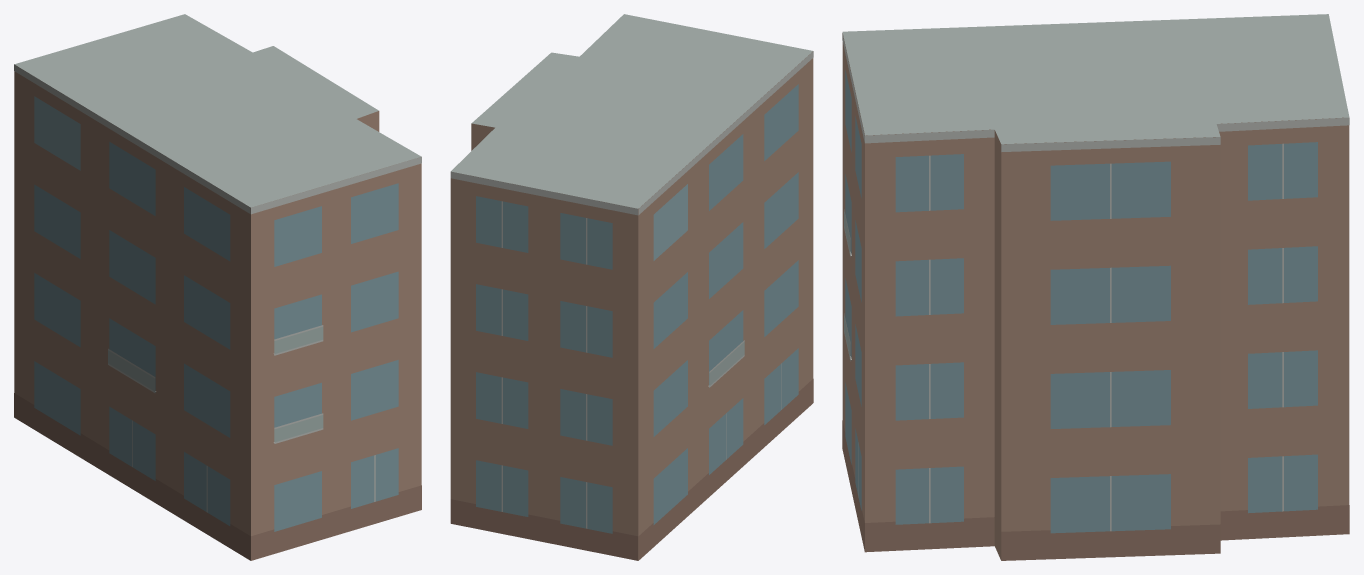
File: survey-upis-32670461.glb
3 renders of one model, left to right at view 1: azimuth 30°, elevation 25°; view 2: azimuth 150°, elevation 25°; view 3: azimuth 270°, elevation 25°, orthographic. The views are drawn at different scales.
Parts seen in each view (by area): view 1: survey-upis-32670461.tmp; view 2: survey-upis-32670461.tmp; view 3: survey-upis-32670461.tmp.
Part boxes in pixels (x1=…): survey-upis-32670461.tmp: x1=14, y1=14, x2=421, y2=560; survey-upis-32670461.tmp: x1=450, y1=14, x2=813, y2=560; survey-upis-32670461.tmp: x1=842, y1=14, x2=1349, y2=560.
Size of the model in its own units: 8.59 by 12.8 by 14.13.
